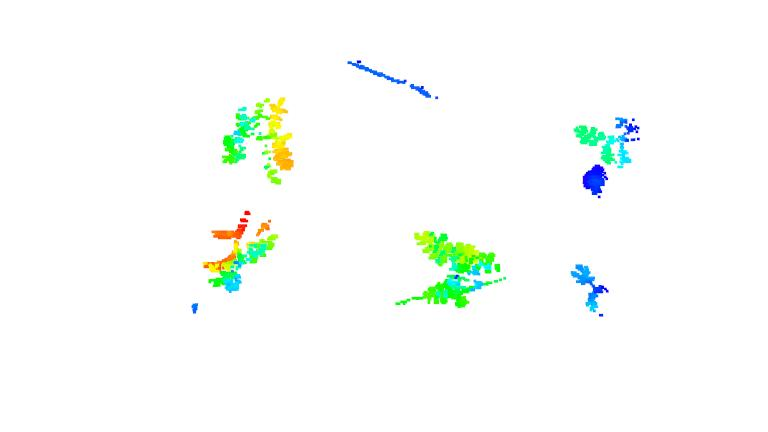chickpea: (411, 228, 503, 307), (200, 210, 278, 293), (223, 97, 296, 185), (571, 116, 641, 168), (571, 262, 611, 312)
